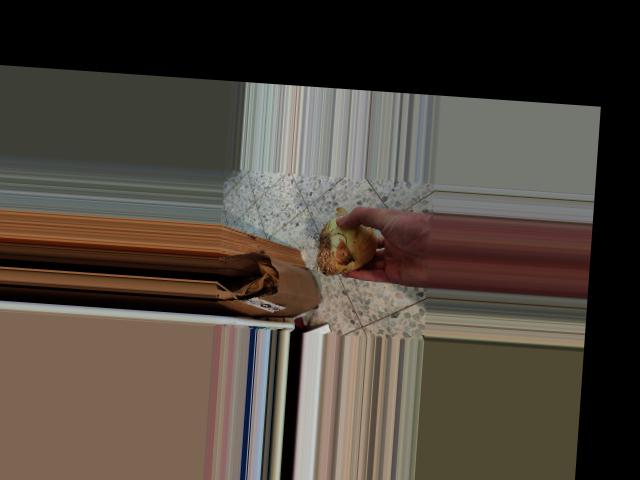onion: (310, 210, 382, 278)
